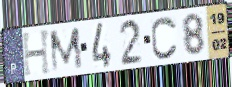2: (119, 17, 144, 67)
4: (91, 21, 113, 70)
8: (180, 12, 207, 57)
C: (150, 15, 180, 61)
H: (20, 28, 53, 79)
M: (48, 25, 85, 75)
